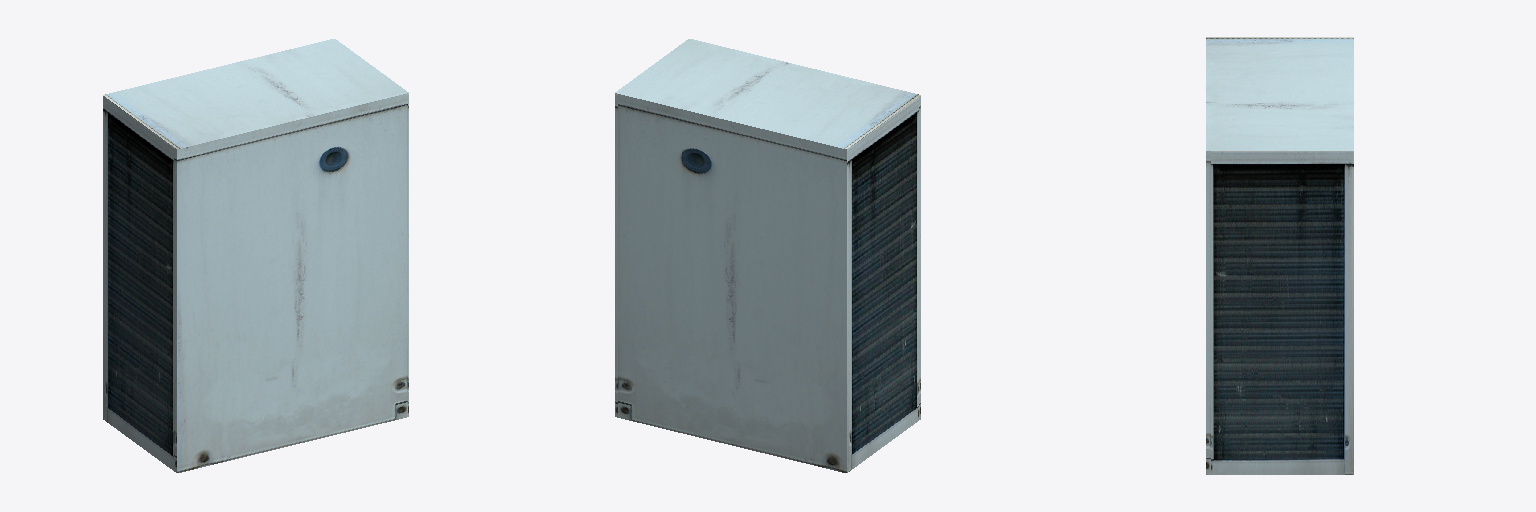
The picture shows the model from 3 angles: view 1: azimuth 30°, elevation 25°; view 2: azimuth 150°, elevation 25°; view 3: azimuth 270°, elevation 25°; orthographic projection.
Visible parts, largest first — view 1: electricBox_6; view 2: electricBox_6; view 3: electricBox_6.
Part boxes in pixels (left/top/right/bottom): electricBox_6: left=103, top=39, right=408, bottom=472; electricBox_6: left=615, top=39, right=920, bottom=472; electricBox_6: left=1206, top=37, right=1353, bottom=474.
Bounding box in the file's own units: 0.9 × 1.2 × 0.5.
Materials: 1 (1 with a texture image).